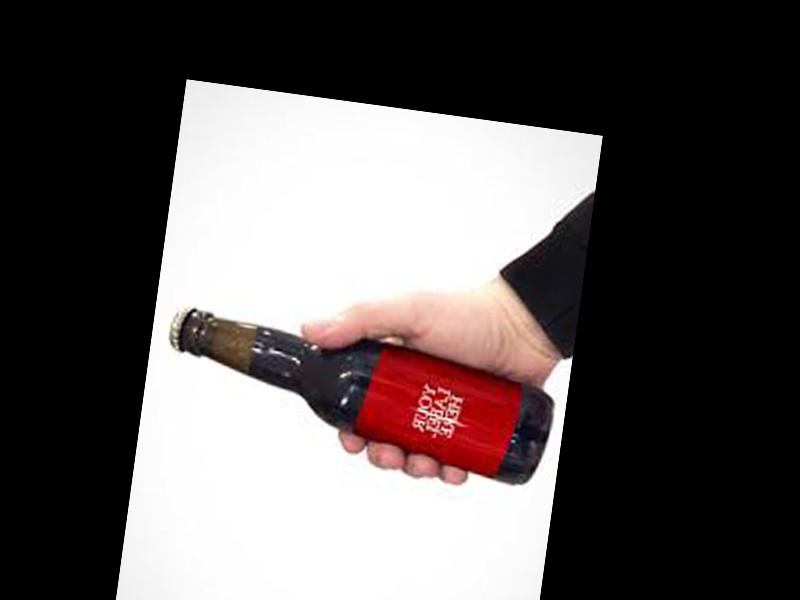Beer: (153, 302, 560, 490)
